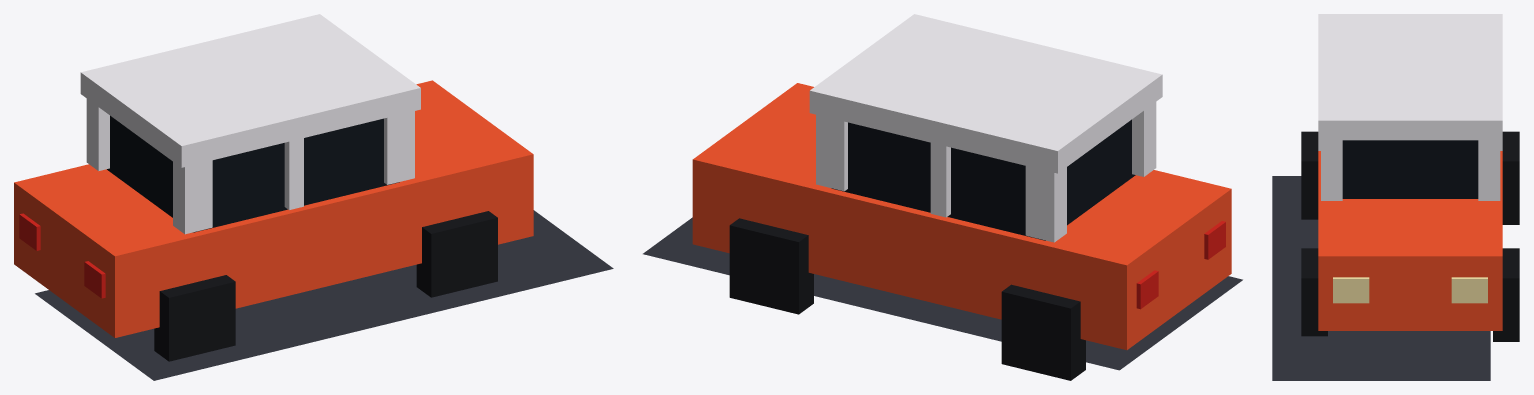
The model's file is car_orange.obj.
The picture shows the model from 3 angles, left to right: view 1: azimuth 30°, elevation 25°; view 2: azimuth 150°, elevation 25°; view 3: azimuth 270°, elevation 25°; orthographic projection. The views are drawn at different scales.
Size of the model in its own units: 2.08 by 0.87 by 1.02.
